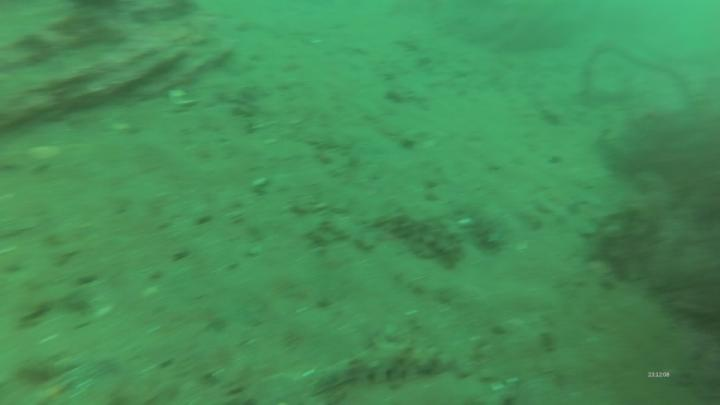holothurian: (302, 333, 461, 393)
